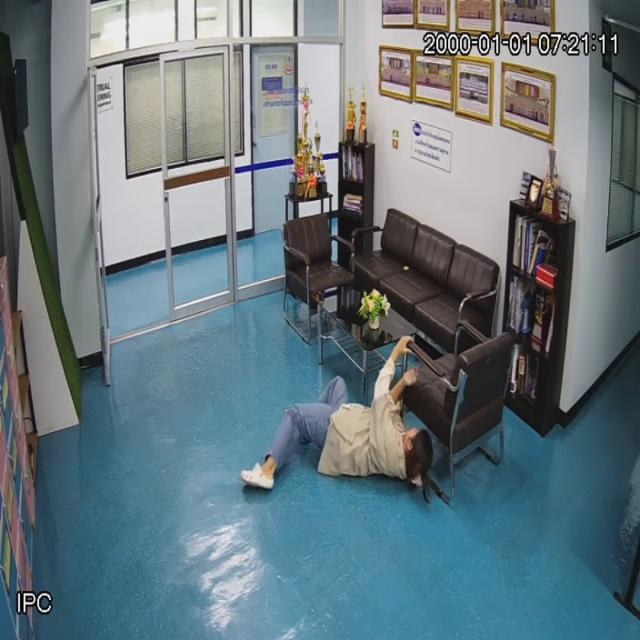fall: (241, 363, 434, 501)
